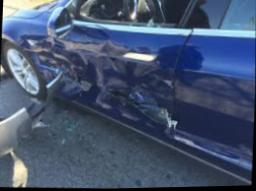Door: (52, 22, 195, 141)
